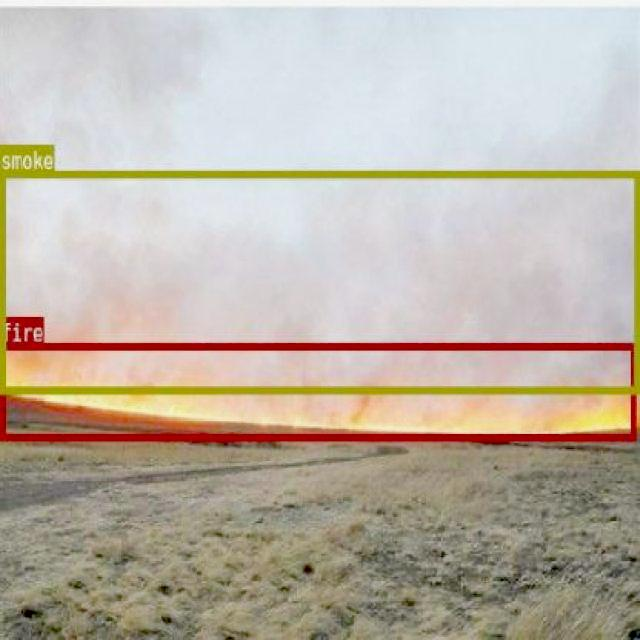fire: (0, 341, 635, 440)
smoke: (0, 169, 637, 391)
